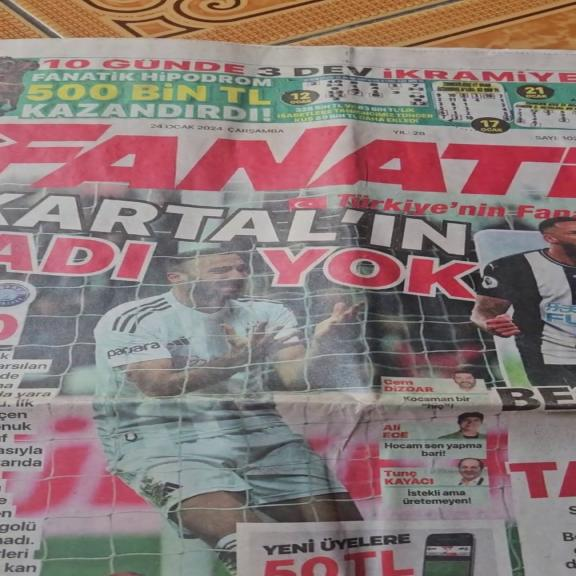Kertas: (3, 46, 576, 394)
